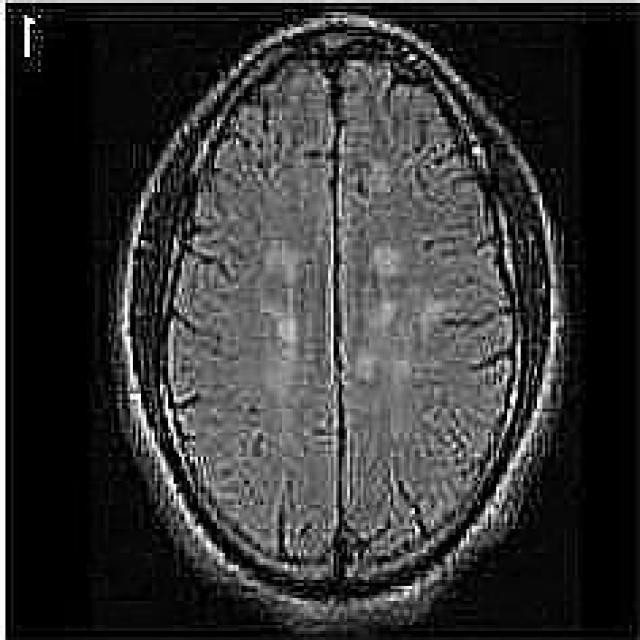notumor: (119, 21, 564, 622)
